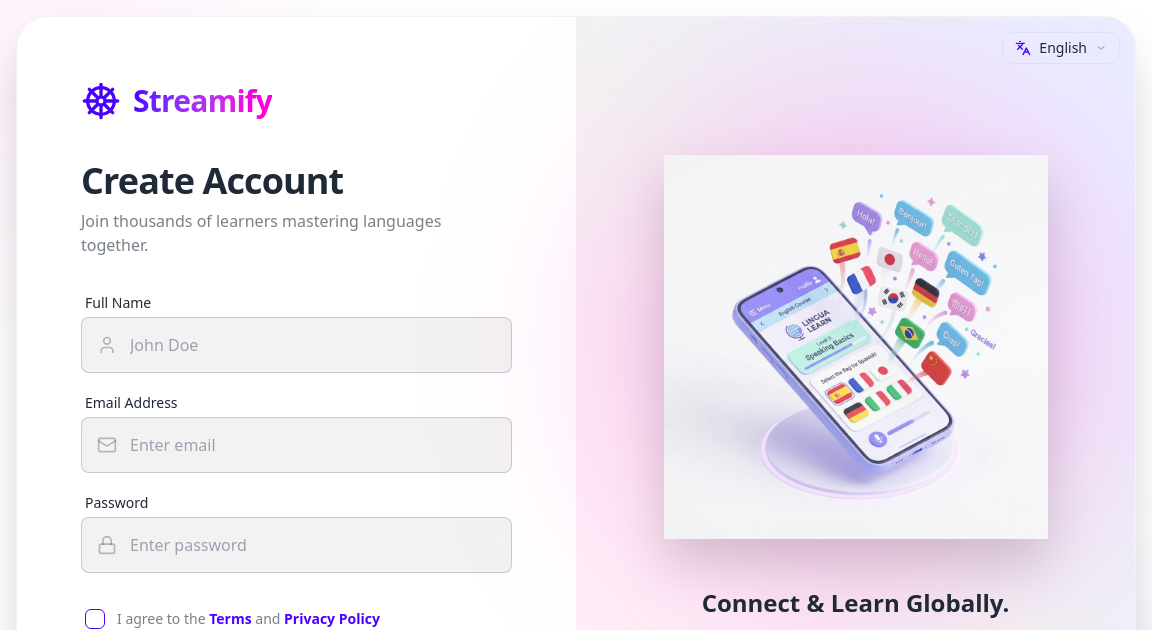
test › Should show error state
The width and height of the screenshot is (1152, 630).
Type "test" into the field with placeholder "Enter email" at {"x": 296, "y": 445}, box [81, 417, 512, 473]
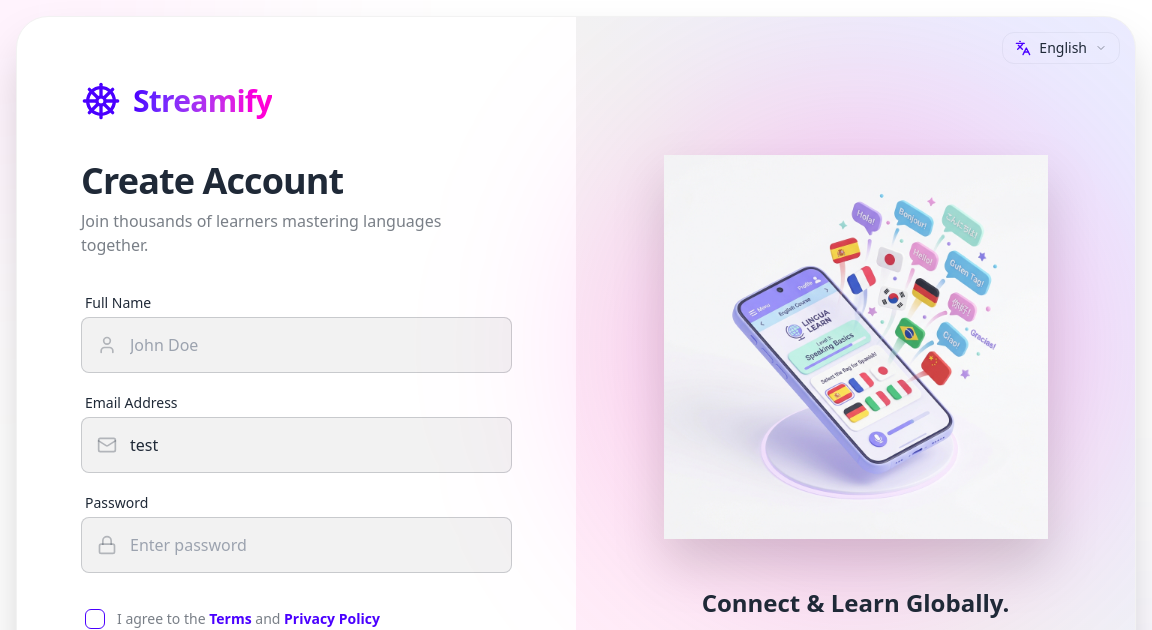
Leave the field with placeholder "Enter email", box [81, 417, 512, 473]
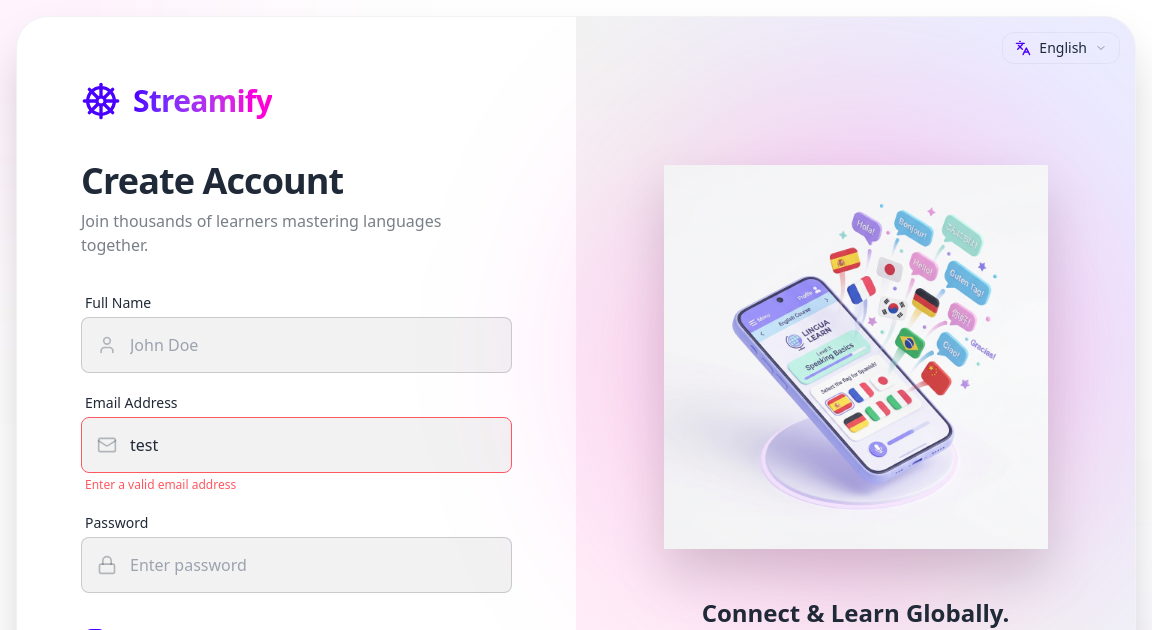
Expected: the text "Enter a valid email address" is shown, [85, 476, 236, 493]
